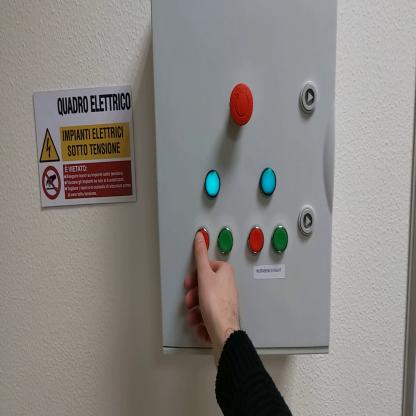hand: (181, 232, 238, 345)
left green button: (218, 229, 235, 257)
left red button: (198, 230, 211, 254)
right green button: (274, 227, 289, 258)
right red button: (249, 230, 265, 255)
